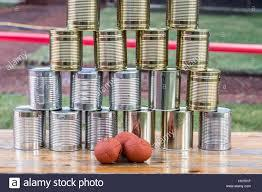Tin: (5, 1, 262, 162)
